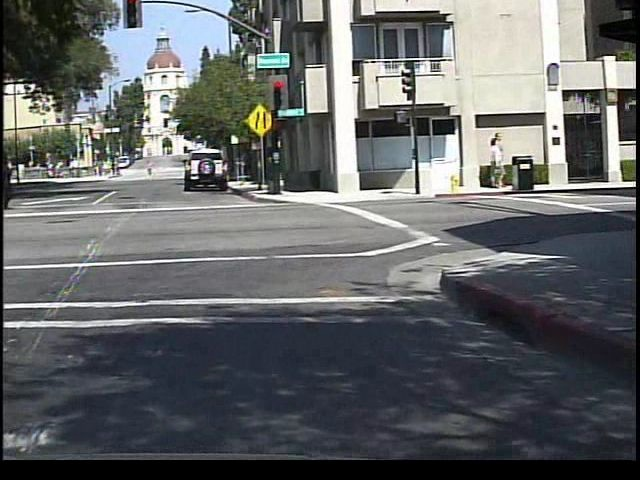person: (3, 170, 30, 229), (4, 156, 25, 213), (145, 161, 155, 179)
